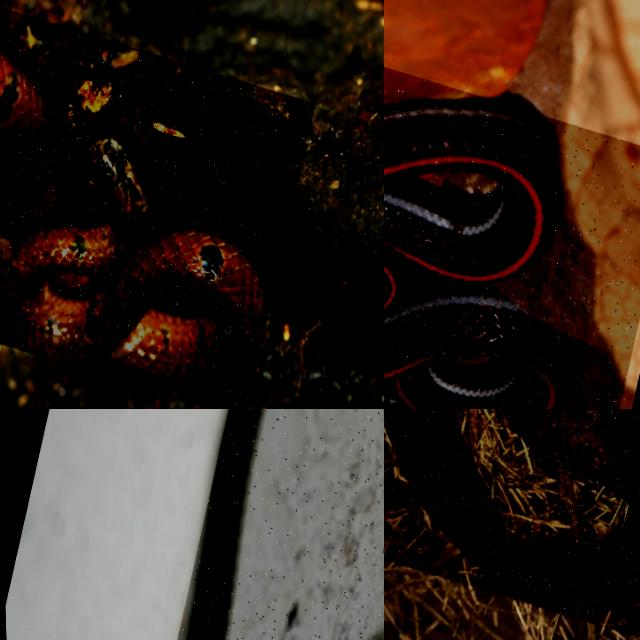Calliophis intestinalis: (384, 101, 583, 408)
Calliophis maculiceps: (0, 46, 266, 384)
Chrysopelea ornata: (191, 409, 258, 639)
Ovophis monticola: (384, 409, 639, 613)
snake: (0, 46, 266, 384), (384, 101, 583, 408), (384, 409, 639, 613), (191, 409, 258, 639)
